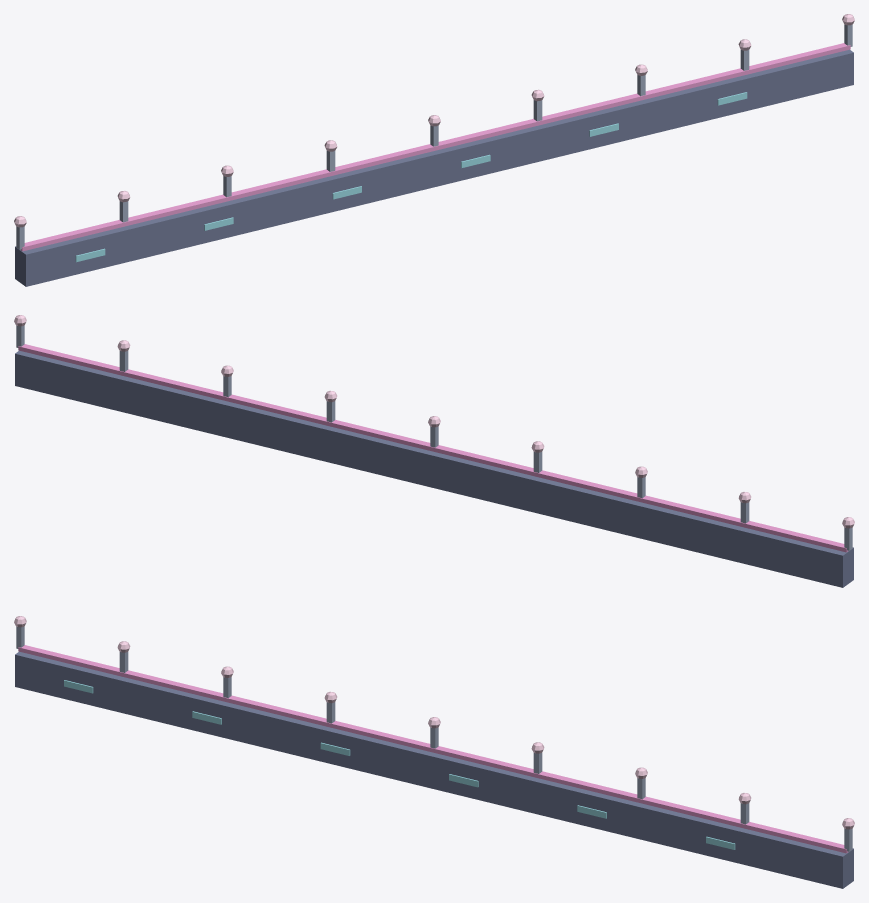
File: barrera_lateral.glb
3 renders of one model, top to bottom at view 1: azimuth 30°, elevation 25°; view 2: azimuth 150°, elevation 25°; view 3: azimuth 330°, elevation 25°, orthographic.
Visible parts, largest first — view 1: barrera_lateral; view 2: barrera_lateral; view 3: barrera_lateral.
Part boxes in pixels (x1=…): barrera_lateral: x1=14, y1=14, x2=854, y2=286; barrera_lateral: x1=14, y1=315, x2=854, y2=587; barrera_lateral: x1=14, y1=616, x2=854, y2=888.
Bounding box in the file's own units: 13.08 × 0.99 × 0.319.
